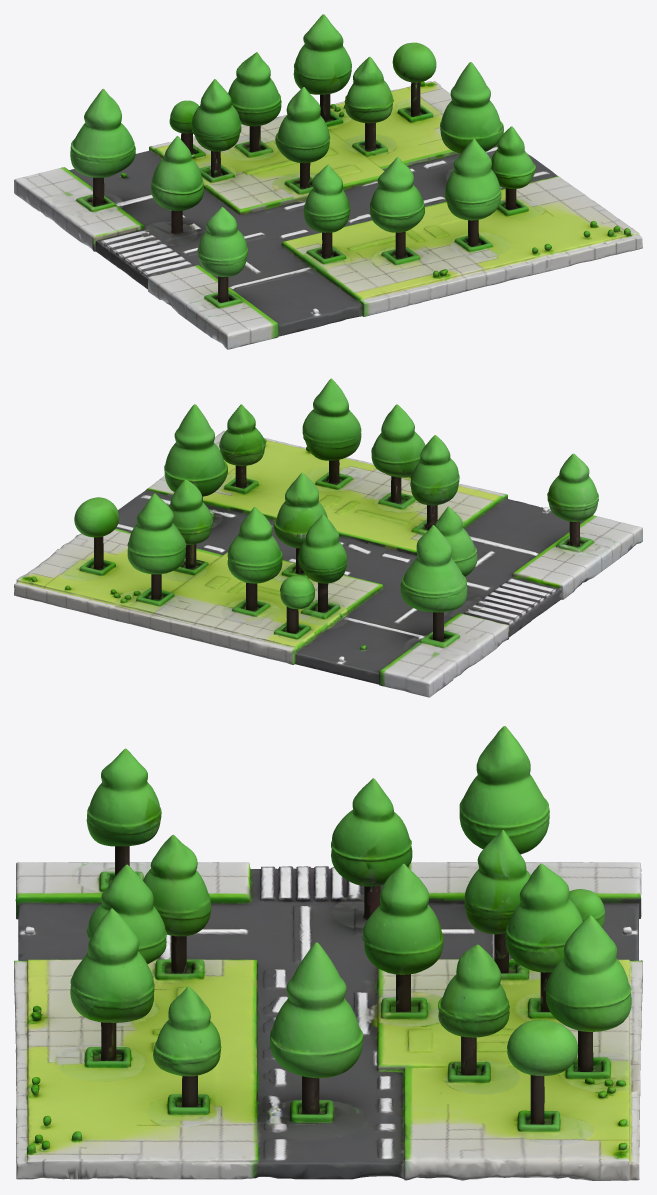
Rendered from politics.glb.
3 renders of one model, top to bottom at view 1: azimuth 30°, elevation 25°; view 2: azimuth 150°, elevation 25°; view 3: azimuth 270°, elevation 25°, orthographic. The views are drawn at different scales.
Size of the model in its own units: 62390 by 18326 by 55650.
1 material, 1 textured.
